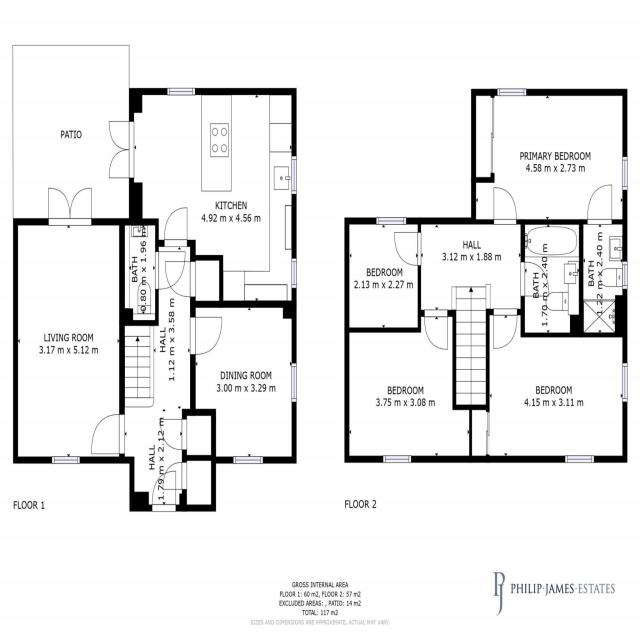DOOR: (91, 412, 125, 455), (190, 315, 223, 356), (587, 183, 613, 225), (151, 470, 177, 512), (520, 261, 550, 297), (423, 310, 449, 351), (163, 206, 188, 247), (493, 309, 518, 349), (393, 231, 421, 266), (493, 186, 517, 225)
DOUBLE DOOR: (47, 186, 93, 226), (108, 120, 135, 179)
ROOM: (108, 87, 297, 308), (13, 187, 125, 464), (469, 308, 628, 463), (471, 89, 628, 225), (344, 310, 472, 463), (189, 300, 297, 464), (344, 217, 422, 333)
WINDOW: (233, 455, 264, 465), (382, 454, 412, 464), (166, 87, 196, 97), (496, 88, 527, 97), (376, 217, 407, 226), (564, 455, 595, 463), (622, 362, 628, 403), (621, 156, 628, 191), (291, 363, 297, 403), (291, 155, 297, 195), (51, 456, 80, 464), (291, 258, 297, 289), (622, 261, 628, 290)
